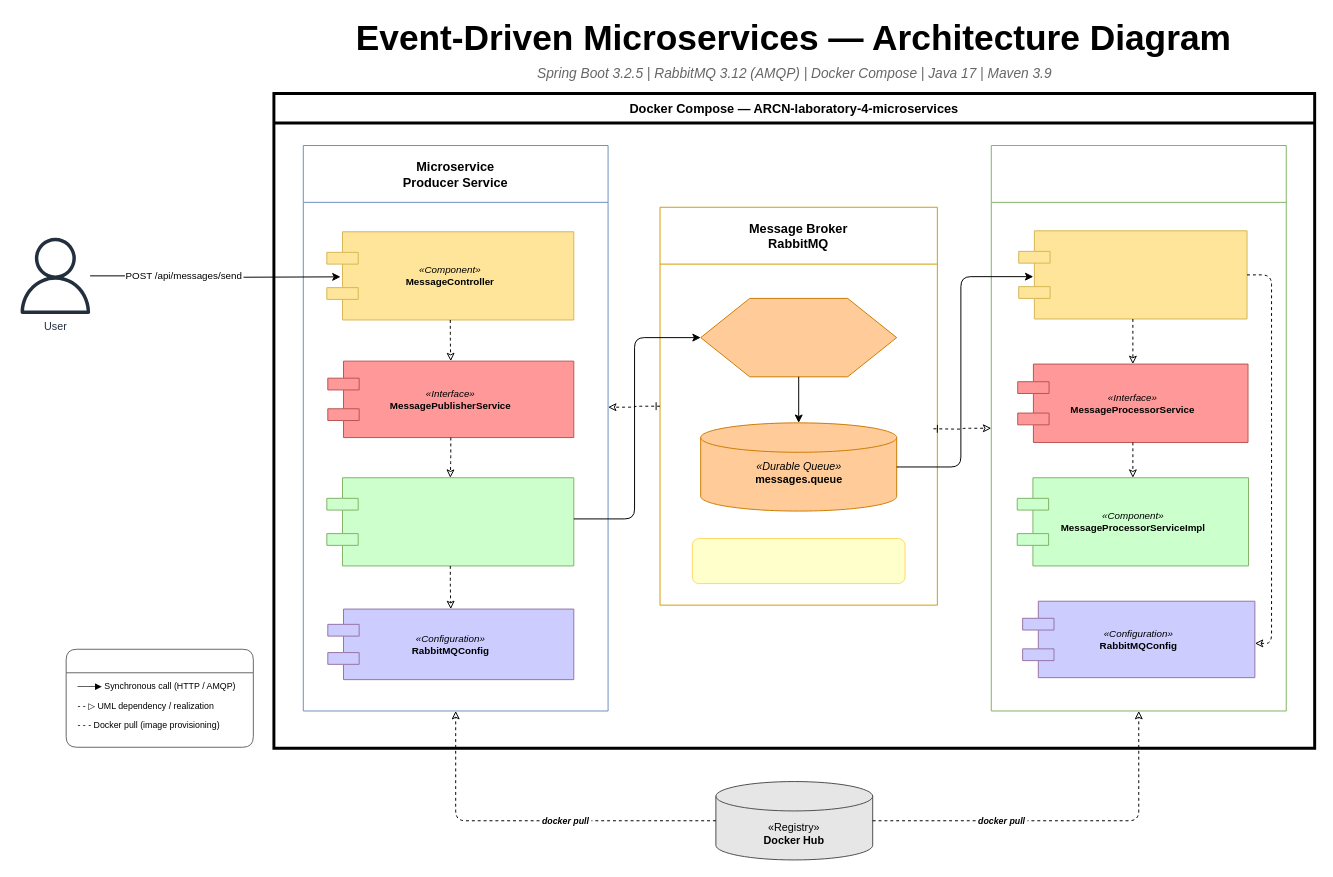
Some shapes in this 1333 by 877 pixel diagram are drawn without their labels. The box of each missing label's shape, as (x1, y1, x2, y2) in pixels:
Legend: (65, 648, 253, 747)
Management UI: guest / guest Queues tab → messages.queue: (691, 538, 905, 584)
Microservice Consumer Service: (990, 145, 1286, 711)
«Component» MessageListener: (1018, 230, 1247, 319)
«Component» MessagePublisherServiceImpl: (326, 477, 574, 566)
«DirectExchange» messages.exchange: (700, 297, 897, 377)
